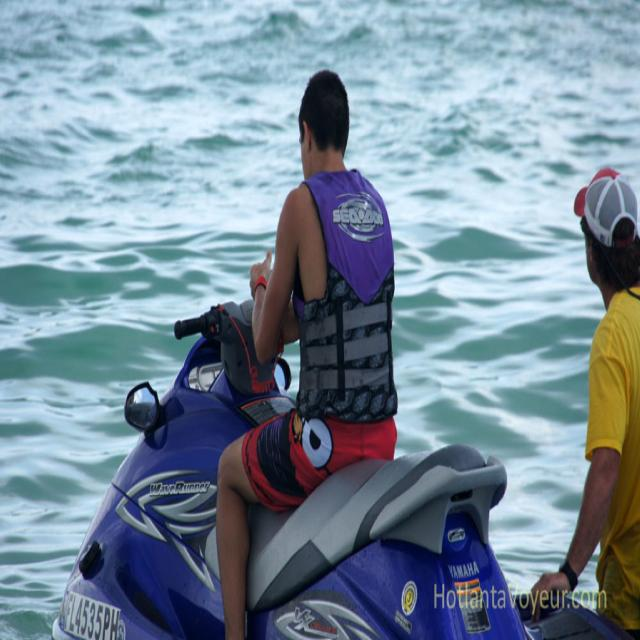Boat: (21, 165, 524, 640), (508, 584, 622, 639)
